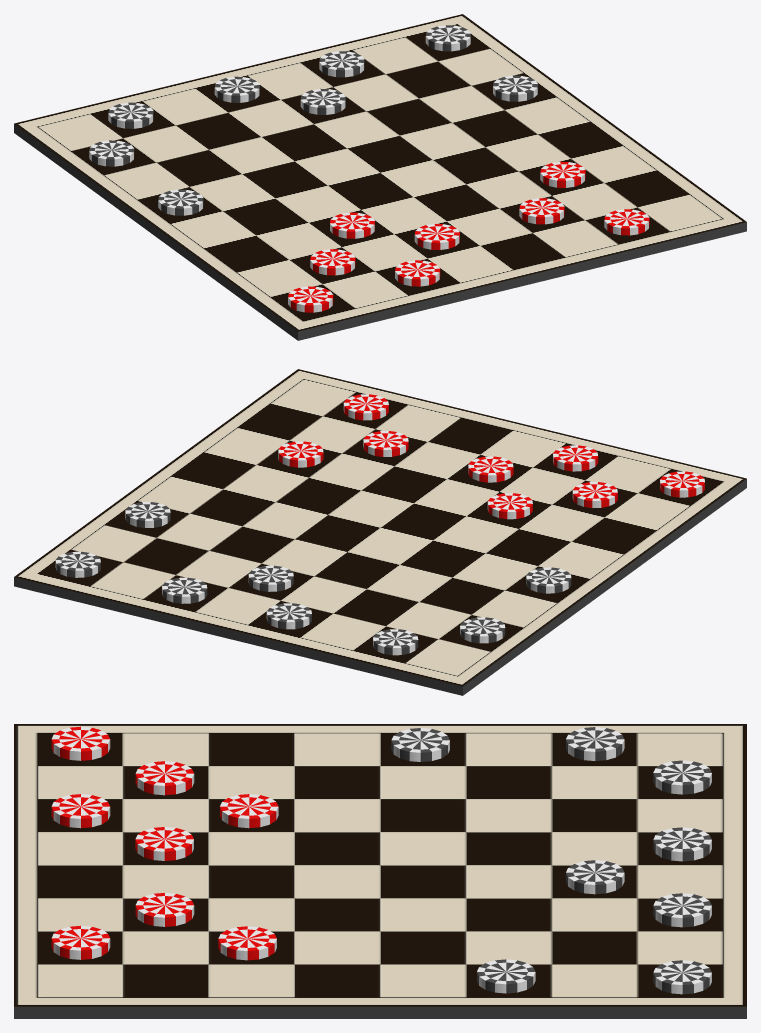
File: background_2.glb
The picture shows the model from 3 angles, top to bottom: view 1: azimuth 30°, elevation 25°; view 2: azimuth 150°, elevation 25°; view 3: azimuth 270°, elevation 25°; orthographic projection. The views are drawn at different scales.
Parts seen in each view (by area): view 1: Cube, Cylinder_3, Cylinder_5, Cylinder_1, Cylinder_14, Cylinder_11, Cylinder_10, Cylinder_8, Cylinder_4, Cylinder_12, Cylinder_7, Cylinder (+5 smaller); view 2: Cube, Cylinder_10, Cylinder_4, Cylinder_15, Cylinder_9, Cylinder_8, Cylinder_5, Cylinder_13, Cylinder_1, Cylinder_2, Cylinder_6, Cylinder_11 (+5 smaller); view 3: Cube, Cylinder_10, Cylinder_12, Cylinder_11, Cylinder_8, Cylinder_14, Cylinder_5, Cylinder_9, Cylinder_15, Cylinder_7, Cylinder_6, Cylinder_1 (+5 smaller).
Boxes of the visible parts, x1,y1,x2,y2 form: Cube: (14,14,746,340); Cylinder_3: (108,102,153,128); Cylinder_5: (158,189,203,215); Cylinder_1: (319,51,364,77); Cylinder_14: (519,198,564,224); Cylinder_11: (288,286,333,312); Cylinder_10: (395,260,440,286); Cylinder_8: (604,209,649,235); Cylinder_4: (89,140,134,166); Cylinder_12: (310,249,355,275); Cylinder_7: (493,75,538,101); Cylinder: (425,25,470,51); Cube: (14,369,746,695); Cylinder_10: (553,445,598,471); Cylinder_4: (460,617,505,643); Cylinder_15: (278,441,323,467); Cylinder_9: (468,456,513,482); Cylinder_8: (343,394,388,420); Cylinder_5: (526,567,571,593); Cylinder_13: (487,493,532,519); Cylinder_1: (162,577,207,603); Cylinder_2: (266,603,311,629); Cylinder_6: (248,565,293,591); Cylinder_11: (660,471,704,497); Cube: (14,724,746,1018); Cylinder_10: (51,794,110,828); Cylinder_12: (135,761,194,795); Cylinder_11: (51,726,110,760); Cylinder_8: (51,925,110,959); Cylinder_14: (135,893,194,926); Cylinder_5: (391,728,449,761); Cylinder_9: (135,827,193,860); Cylinder_15: (218,926,276,960); Cylinder_7: (477,959,535,993); Cylinder_6: (566,860,624,894); Cylinder_1: (653,893,711,927).
Size of the model in its own units: 9.22 by 0.325 by 10.11.
Materials: 4 (1 with a texture image).
